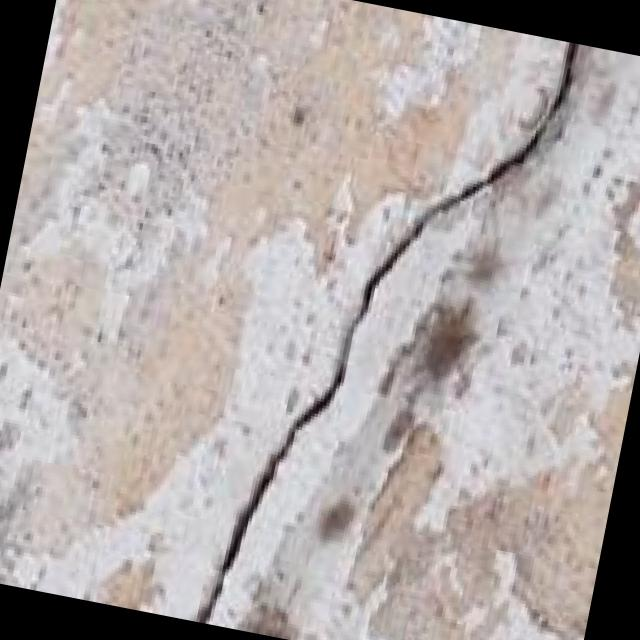crack: (184, 0, 585, 640)
